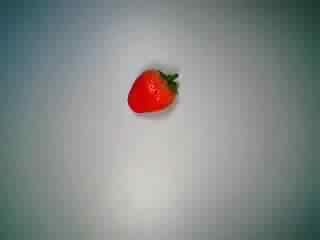strawberry: (118, 64, 186, 128)
